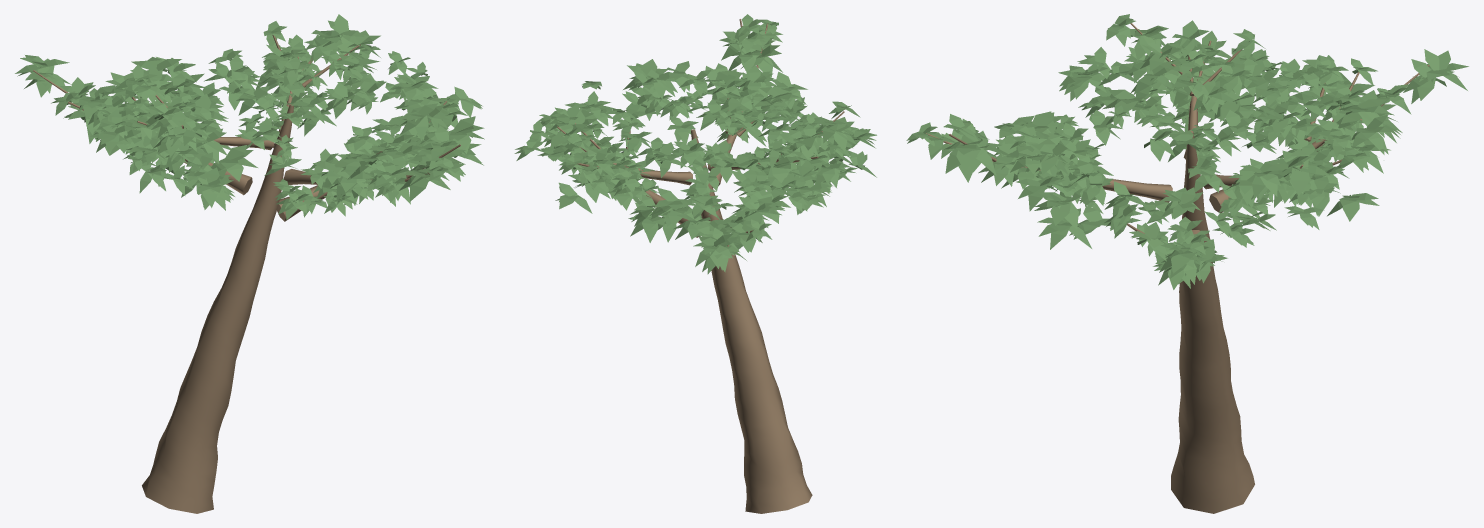
The model's file is island_tree_03_LOD1.fbx.
3 views of the same model, side by side, from view 1: azimuth 30°, elevation 25°; view 2: azimuth 150°, elevation 25°; view 3: azimuth 270°, elevation 25° (orthographic). The views are drawn at different scales.
Visible parts, largest first — view 1: island_tree_03_LOD1; view 2: island_tree_03_LOD1; view 3: island_tree_03_LOD1.
Part boxes in pixels (x1,y1,x2,y2): island_tree_03_LOD1: (15, 14, 484, 513); island_tree_03_LOD1: (514, 14, 876, 513); island_tree_03_LOD1: (906, 14, 1468, 513).
Bounding box in the file's own units: 11.93 × 13.89 × 15.33.
